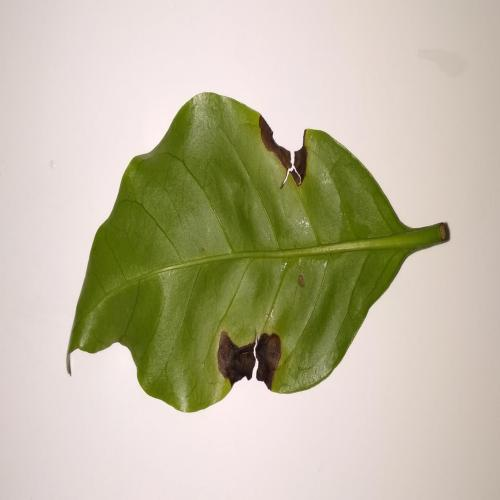miner: (259, 113, 307, 185)
